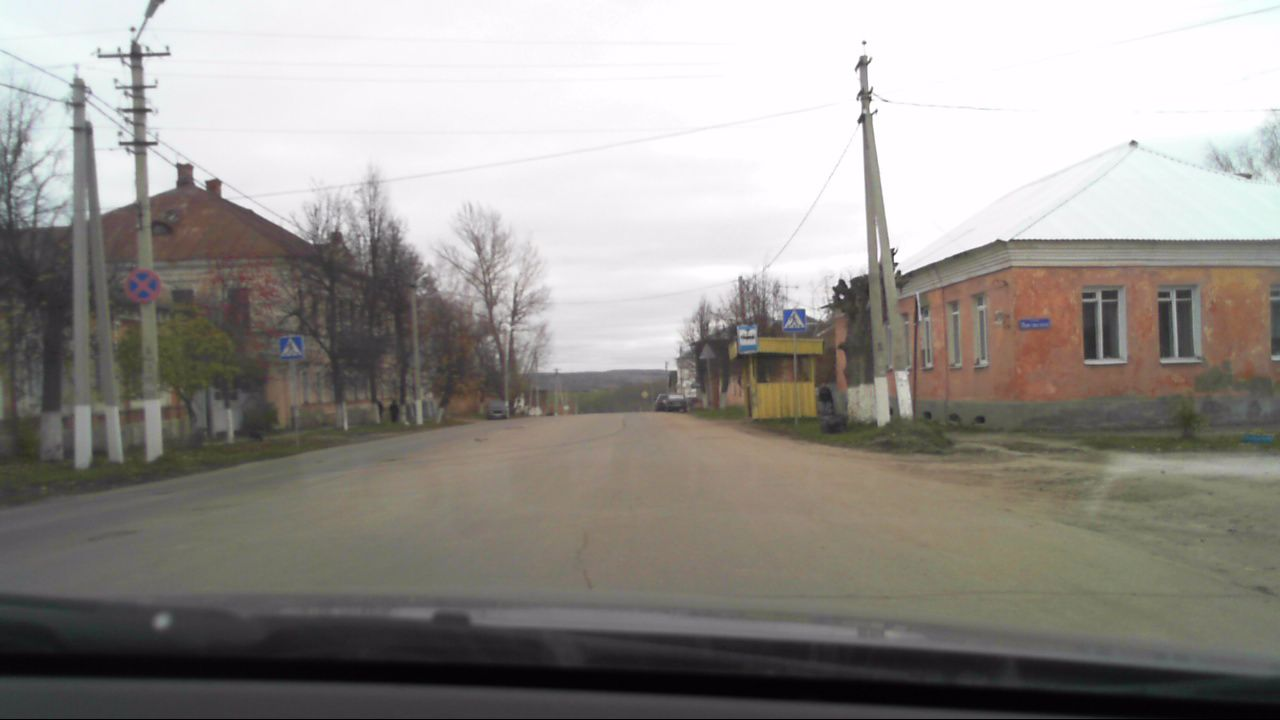No Parking: (123, 266, 160, 303)
